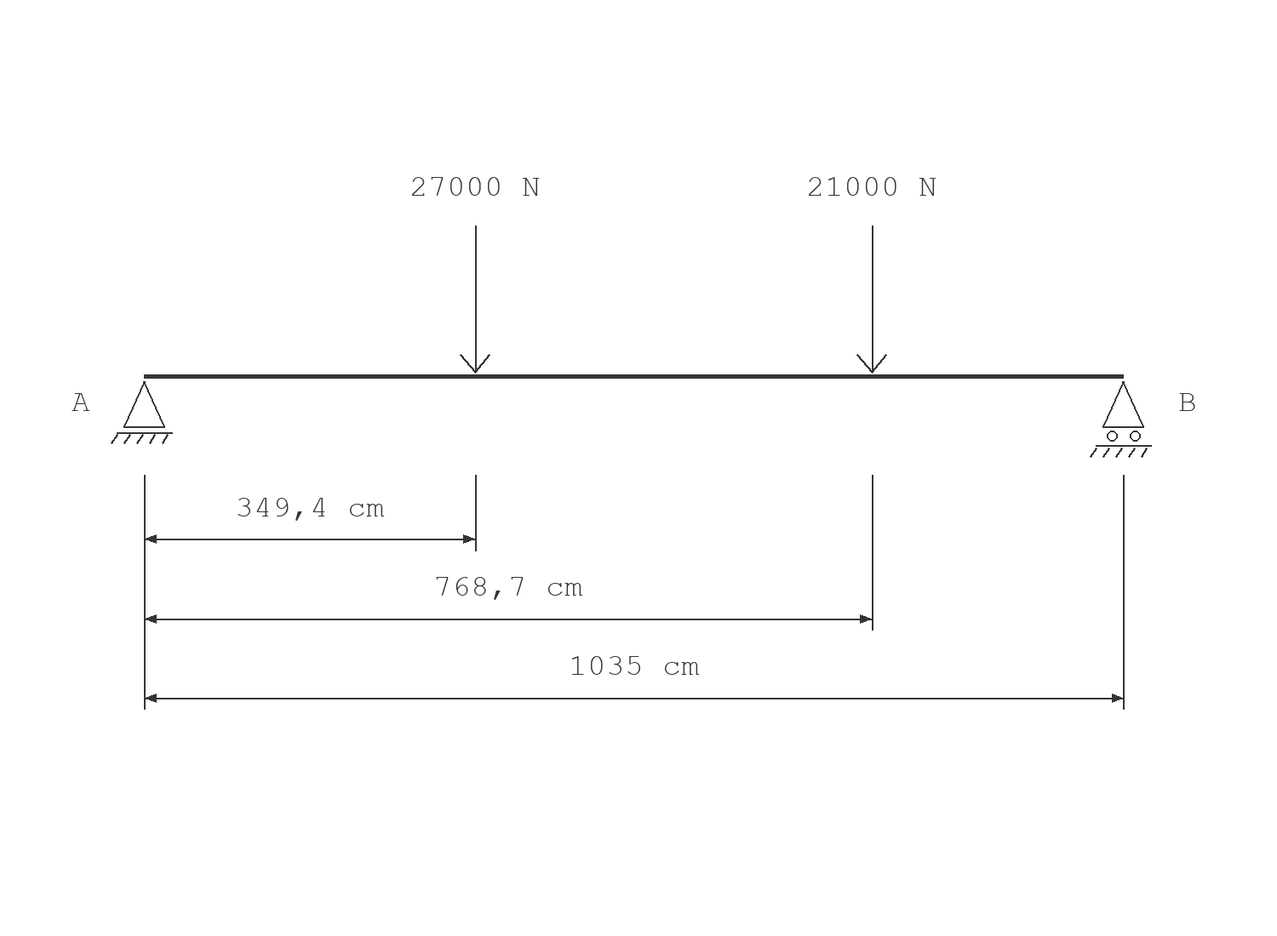pin_support: (111, 381, 173, 444)
point_load: (856, 225, 887, 374), (460, 225, 490, 374)
roller_support: (1090, 381, 1152, 458)
